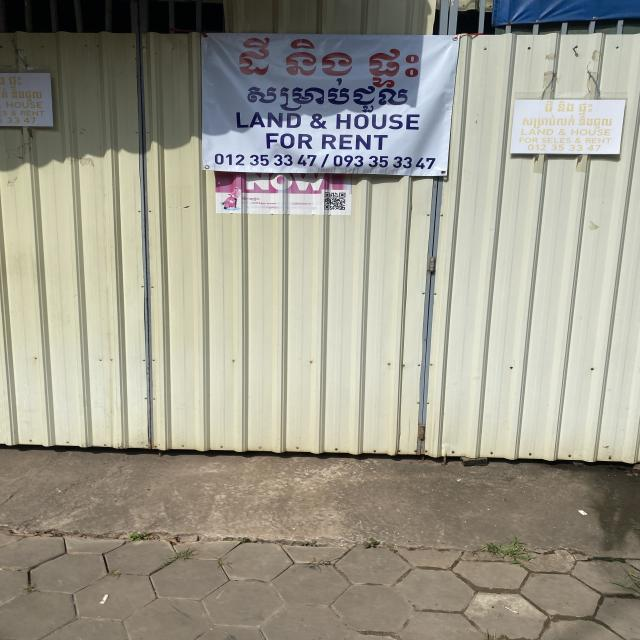1: (519, 114, 615, 129)
2: (228, 33, 426, 88), (541, 99, 594, 117)
253: (524, 142, 603, 153)
254: (211, 151, 438, 173)
724: (6, 116, 40, 125)
Yolov11_80vkh: (245, 74, 415, 113), (9, 88, 47, 102), (6, 75, 27, 90)
